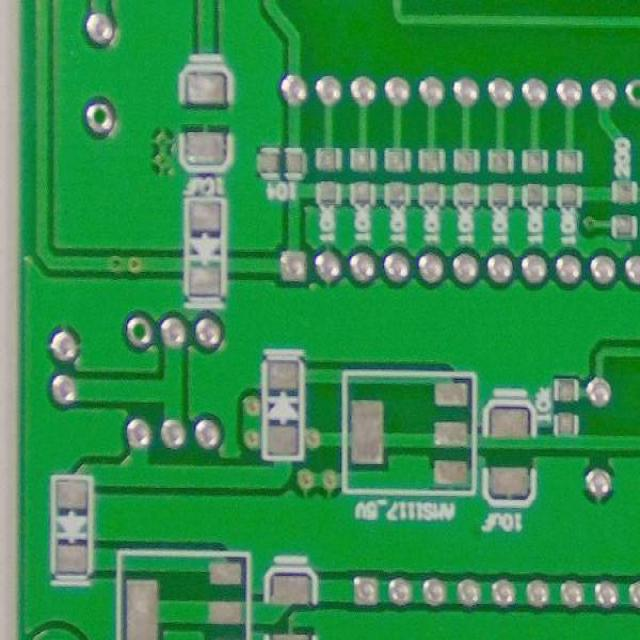missing hole: (79, 93, 122, 140), (122, 308, 161, 355)
